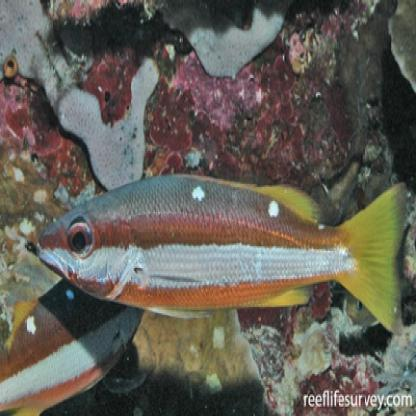snapper: (35, 168, 409, 338)
